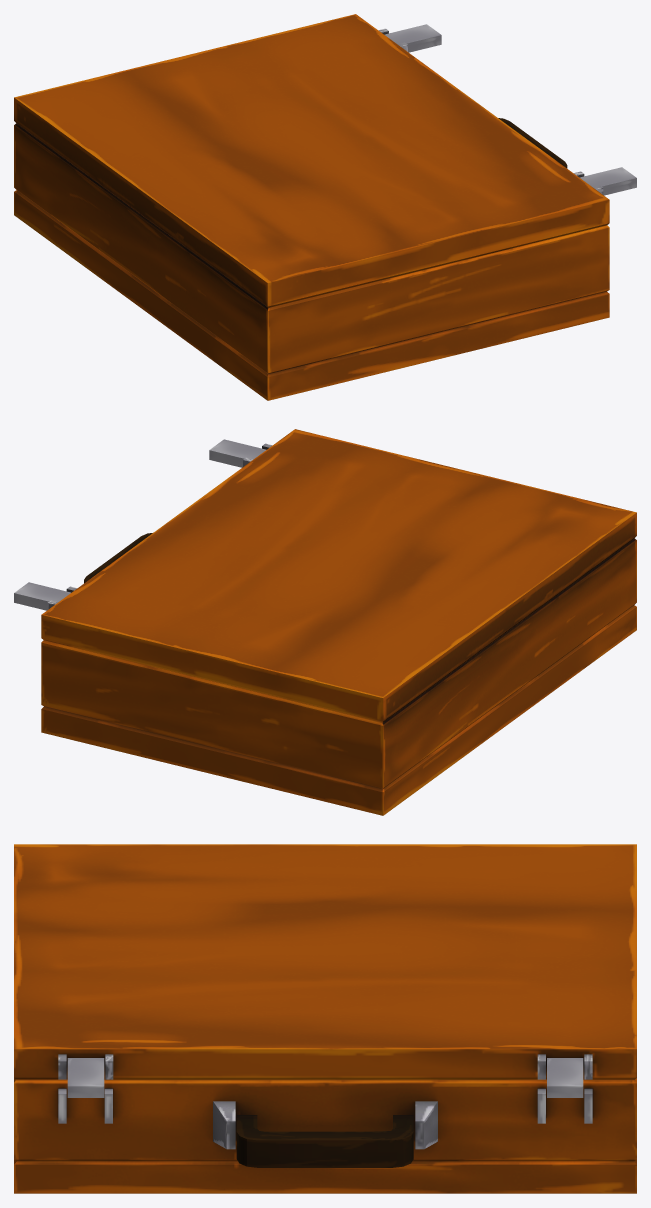
Rendered from theBriefCase.FBX.
3 views of the same model, one above another, from view 1: azimuth 30°, elevation 25°; view 2: azimuth 150°, elevation 25°; view 3: azimuth 270°, elevation 25° (orthographic). The views are drawn at different scales.
Parts seen in each view (by area): view 1: briefcaseLit, briefcaseBody, briefcaseClipRight, briefcaseClipLeft; view 2: briefcaseLit, briefcaseBody, briefcaseClipRight, briefcaseClipLeft; view 3: briefcaseLit, briefcaseBody, briefcaseClipLeft, briefcaseClipRight.
Part boxes in pixels (x1,y1,x2,y2): briefcaseLit: (14,14,609,307); briefcaseBody: (14,118,609,400); briefcaseClipRight: (384,24,441,52); briefcaseClipLeft: (579,167,636,195); briefcaseLit: (41,429,636,722); briefcaseBody: (41,533,636,815); briefcaseClipRight: (14,582,70,610); briefcaseClipLeft: (209,439,266,467); briefcaseLit: (14,844,636,1079); briefcaseBody: (14,1078,636,1193); briefcaseClipLeft: (67,1058,104,1097); briefcaseClipRight: (547,1058,583,1097).
Size of the model in its own units: 15.98 by 4.53 by 17.72.
Materials: 1 (1 with a texture image).
